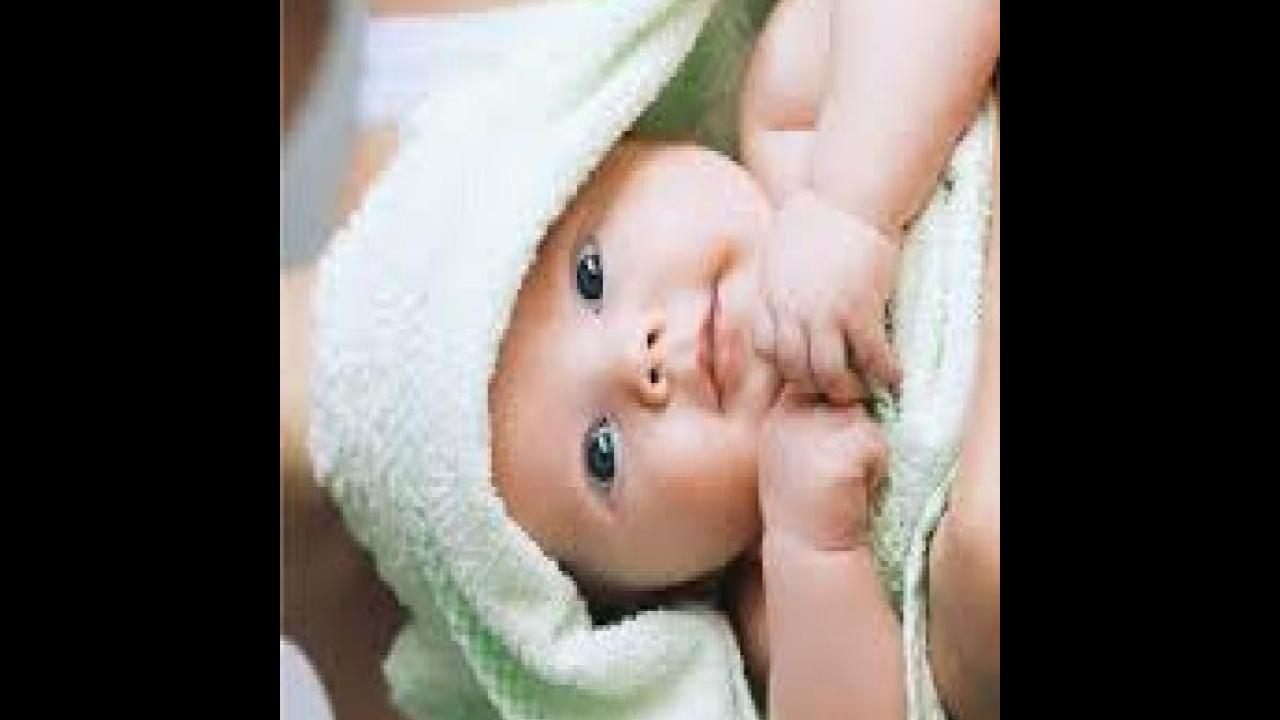hand: (751, 200, 905, 400), (758, 397, 884, 537)
